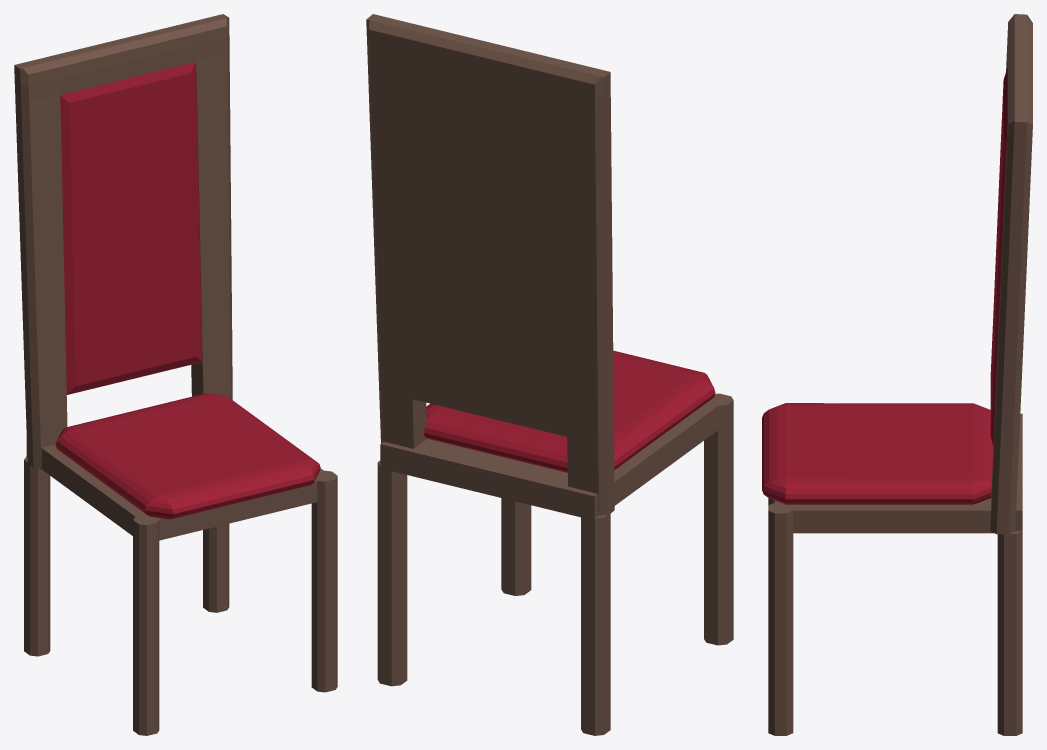
The model's file is chair.glb.
3 renders of one model, left to right at view 1: azimuth 30°, elevation 25°; view 2: azimuth 150°, elevation 25°; view 3: azimuth 270°, elevation 25°, orthographic. The views are drawn at different scales.
Visible parts, largest first — view 1: BackRest, Puff, Sit, Leg1, Leg2, Leg4, Leg3; view 2: BackRest, Puff, Sit, Leg1, Leg3, Leg4, Leg2; view 3: Puff, BackRest, Sit, Leg2, Leg3.
Boxes of the visible parts, x1=… form: BackRest: x1=14, y1=14, x2=232, y2=467; Puff: x1=55, y1=393, x2=320, y2=519; Sit: x1=26, y1=439, x2=323, y2=540; Leg1: x1=133, y1=516, x2=159, y2=735; Leg2: x1=311, y1=470, x2=337, y2=692; Leg4: x1=24, y1=456, x2=50, y2=656; Leg3: x1=203, y1=523, x2=229, y2=612; BackRest: x1=366, y1=14, x2=614, y2=515; Puff: x1=424, y1=350, x2=715, y2=472; Sit: x1=380, y1=395, x2=727, y2=520; Leg1: x1=704, y1=393, x2=733, y2=645; Leg3: x1=377, y1=460, x2=407, y2=686; Leg4: x1=581, y1=514, x2=610, y2=735; Leg2: x1=501, y1=498, x2=531, y2=595; Puff: x1=762, y1=403, x2=993, y2=504; BackRest: x1=990, y1=14, x2=1032, y2=534; Sit: x1=774, y1=413, x2=1022, y2=533; Leg2: x1=768, y1=502, x2=793, y2=735; Leg3: x1=997, y1=531, x2=1022, y2=735.
Size of the model in its own units: 2.05 by 5.48 by 2.18.
Materials: 4 (4 with a texture image).
